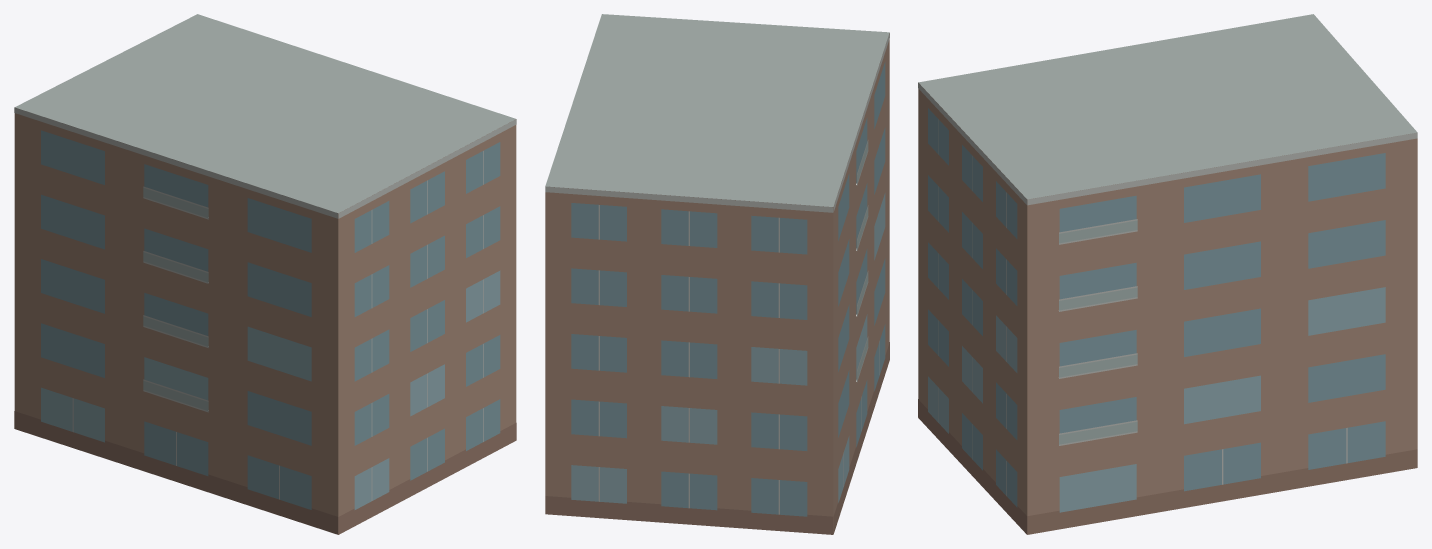
The model's file is survey-upis-33024236.glb.
3 renders of one model, left to right at view 1: azimuth 30°, elevation 25°; view 2: azimuth 150°, elevation 25°; view 3: azimuth 270°, elevation 25°, orthographic. The views are drawn at different scales.
Parts seen in each view (by area): view 1: survey-upis-33024236.tmp; view 2: survey-upis-33024236.tmp; view 3: survey-upis-33024236.tmp.
Part boxes in pixels (x1,y1,x2,y2): survey-upis-33024236.tmp: (14, 14, 516, 534); survey-upis-33024236.tmp: (545, 14, 889, 534); survey-upis-33024236.tmp: (918, 14, 1417, 534).
Size of the model in its own units: 16.56 by 13.95 by 18.84.
